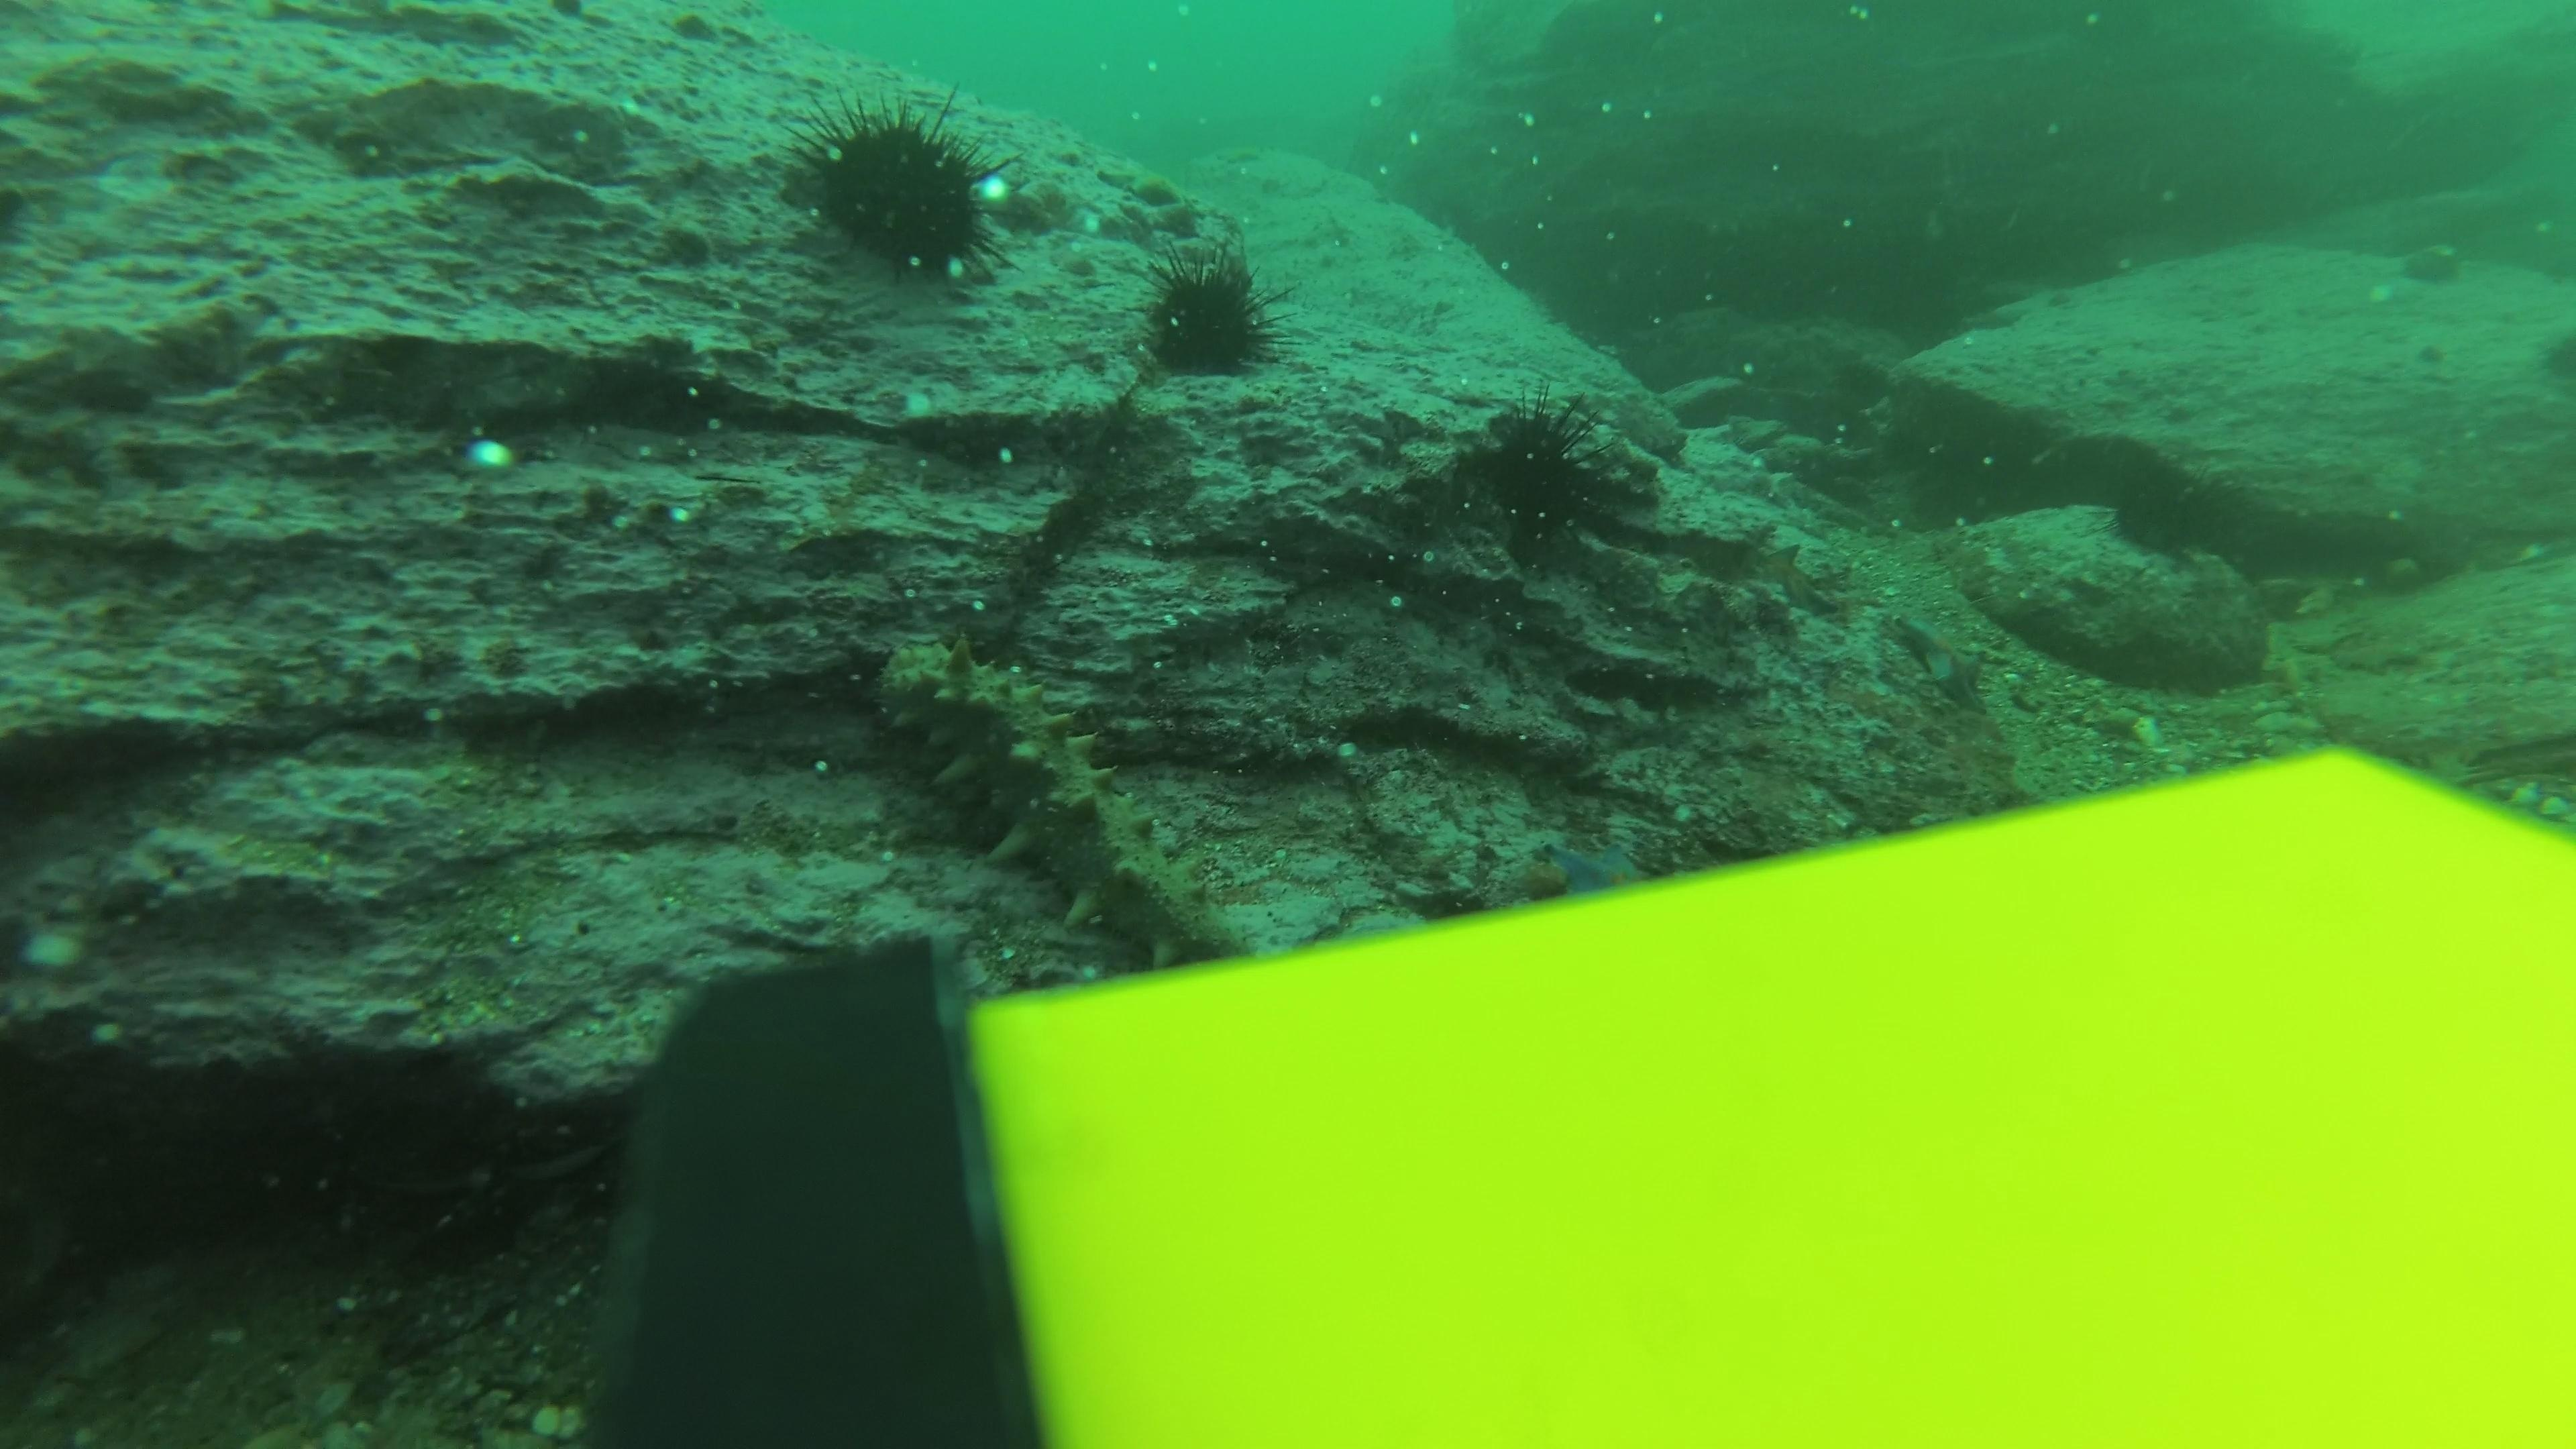echinus: (782, 87, 1019, 295), (1456, 389, 1644, 577), (2077, 432, 2265, 619), (1131, 242, 1286, 386)
holothurian: (865, 626, 1249, 962)
starfish: (1881, 605, 1997, 713), (1743, 538, 1847, 621), (1532, 828, 1652, 895), (1086, 150, 1196, 214)
